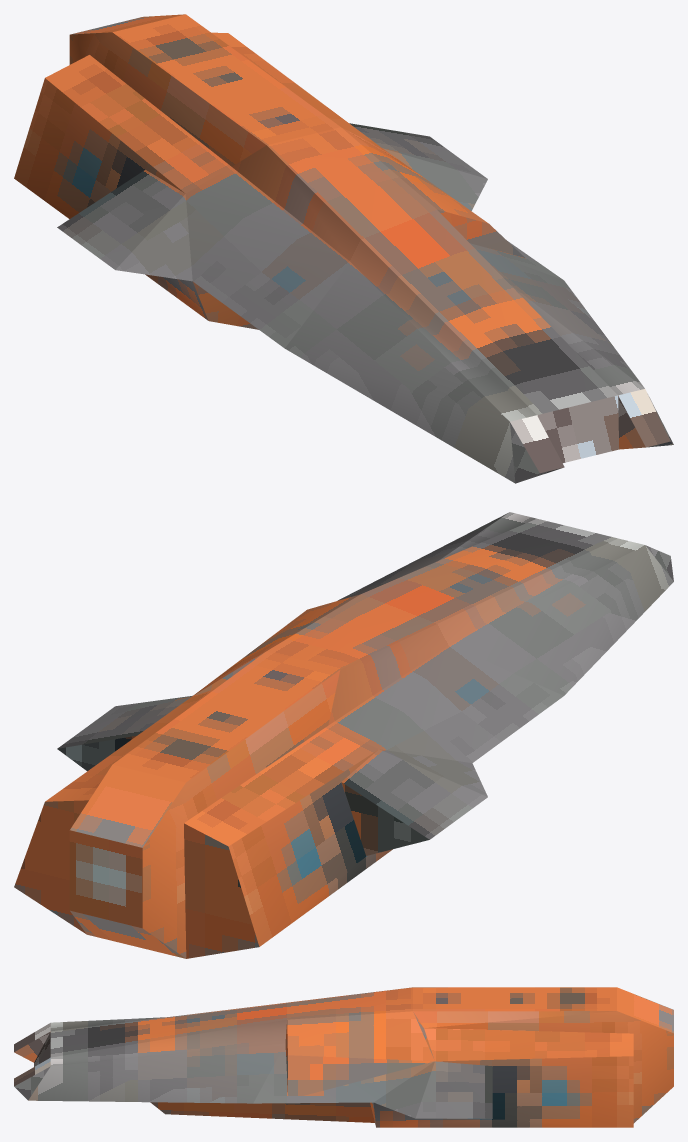
The picture shows the model from 3 angles, top to bottom: view 1: azimuth 30°, elevation 25°; view 2: azimuth 150°, elevation 25°; view 3: azimuth 270°, elevation 25°; orthographic projection. The views are drawn at different scales.
Parts seen in each view (by area): view 1: Hgn_MinelayerCorv_LOD2; view 2: Hgn_MinelayerCorv_LOD2; view 3: Hgn_MinelayerCorv_LOD2.
Part boxes in pixels (bbox=[...]): Hgn_MinelayerCorv_LOD2: bbox=[14, 14, 673, 483]; Hgn_MinelayerCorv_LOD2: bbox=[14, 512, 673, 958]; Hgn_MinelayerCorv_LOD2: bbox=[14, 987, 673, 1127].
Size of the model in its own units: 23.46 by 9.87 by 54.4.
